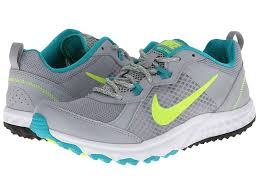nike: (150, 72, 219, 127)
